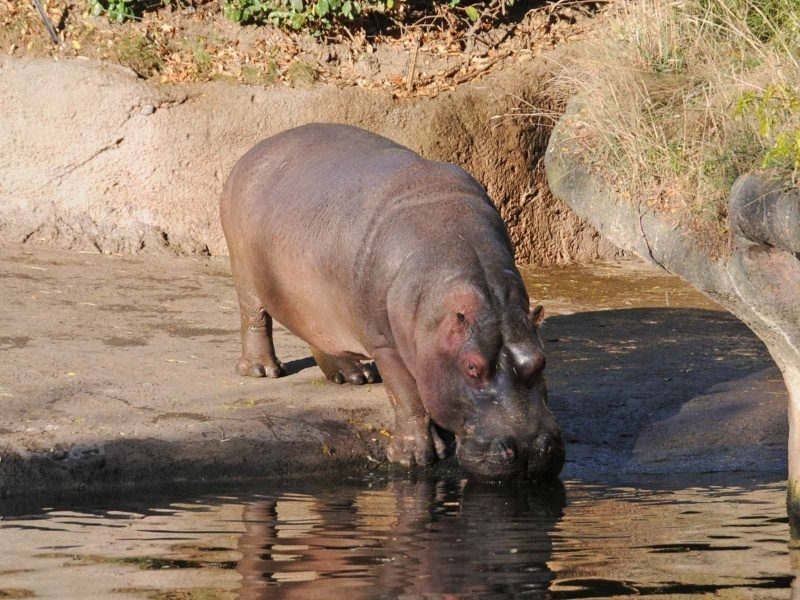hipopotamo: (202, 102, 568, 480)
